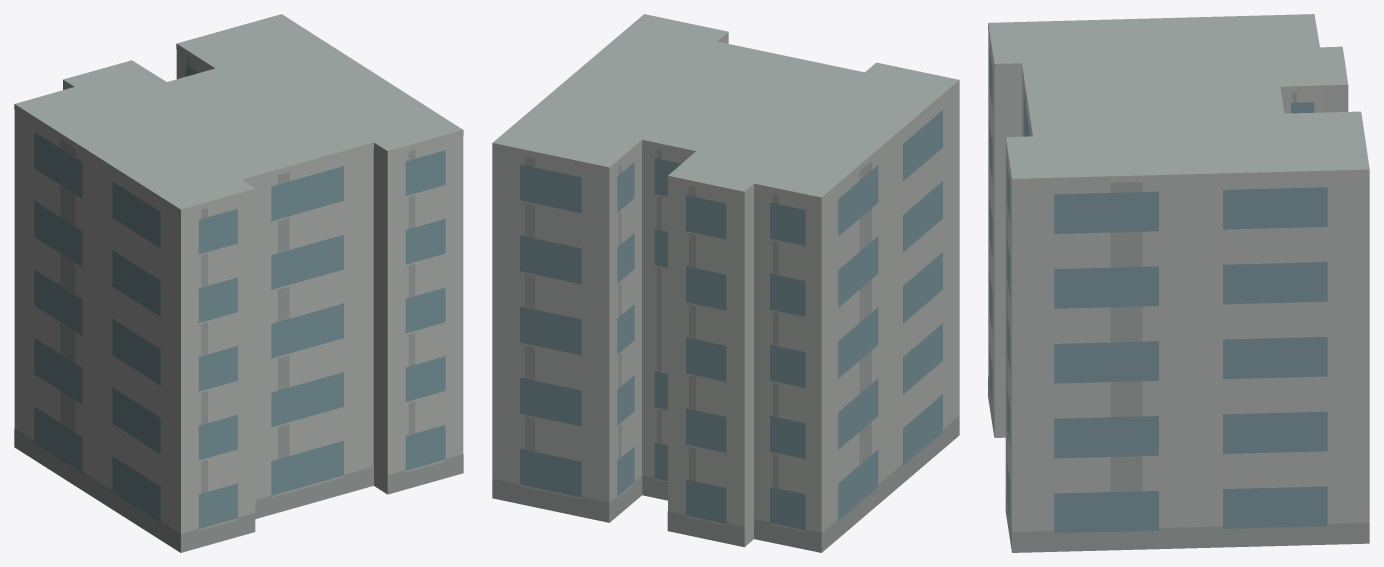
File: survey-upis-32889415.glb
3 renders of one model, left to right at view 1: azimuth 30°, elevation 25°; view 2: azimuth 150°, elevation 25°; view 3: azimuth 270°, elevation 25°, orthographic. The views are drawn at different scales.
Visible parts, largest first — view 1: survey-upis-32889415.tmp; view 2: survey-upis-32889415.tmp; view 3: survey-upis-32889415.tmp.
Boxes of the visible parts, x1=… form: survey-upis-32889415.tmp: x1=14, y1=14, x2=463, y2=552; survey-upis-32889415.tmp: x1=492, y1=14, x2=959, y2=552; survey-upis-32889415.tmp: x1=988, y1=14, x2=1369, y2=552.
Size of the model in its own units: 13.53 by 14.3 by 13.23.
